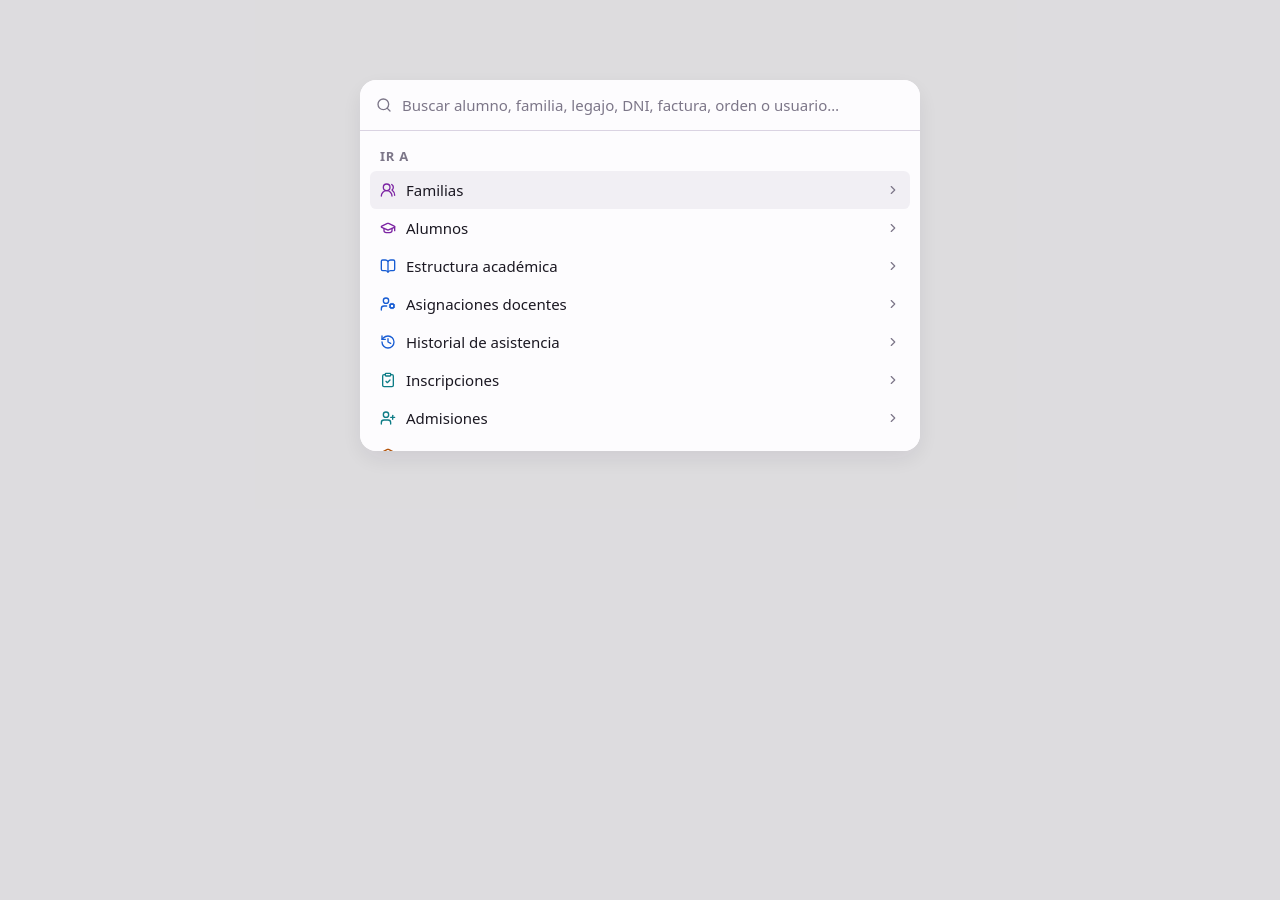
it: GlobalSearchDialog › busca inscripciones, admisiones y facturas desde la misma paleta
In the dropdown with placeholder "Buscar alumno, familia, legajo, DNI, factura, orden o usuario…": {"x": 653, "y": 105} top-left (402, 94), bottom-right (904, 116), type "Sofía"
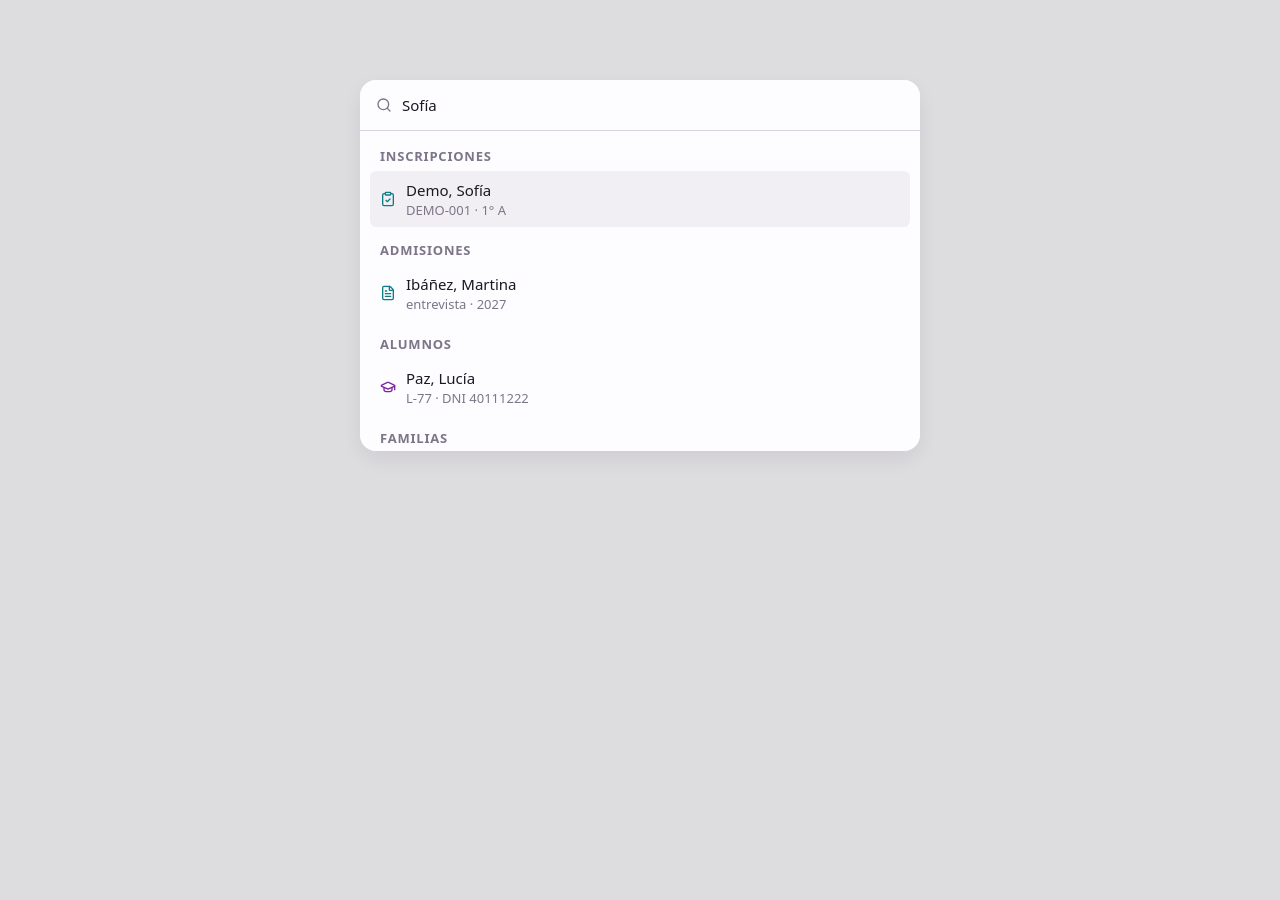
Expected: the text "Demo, Sofía" is shown, top-left (406, 179), bottom-right (506, 201)
